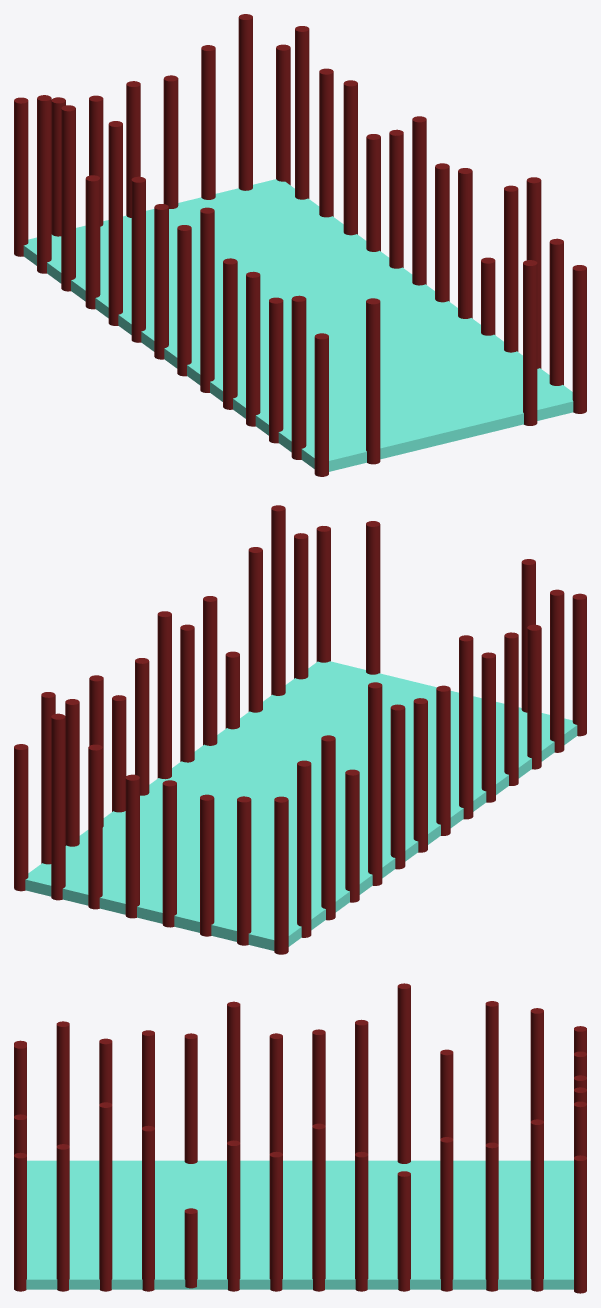
The model's file is Storage_OpenAir.FBX.
The picture shows the model from 3 angles, top to bottom: view 1: azimuth 30°, elevation 25°; view 2: azimuth 150°, elevation 25°; view 3: azimuth 270°, elevation 25°; orthographic projection. The views are drawn at different scales.
Parts seen in each view (by area): view 1: Tree's, HardGround; view 2: Tree's, HardGround; view 3: HardGround, Tree's.
Part boxes in pixels (x1,y1,x2,y2): Tree's: (14,14,586,476); HardGround: (23,179,573,471); Tree's: (14,505,586,954); HardGround: (25,661,577,950); HardGround: (26,1160,573,1289); Tree's: (14,983,586,1293).
Bounding box in the file's own units: 131 × 90.91 × 255.
